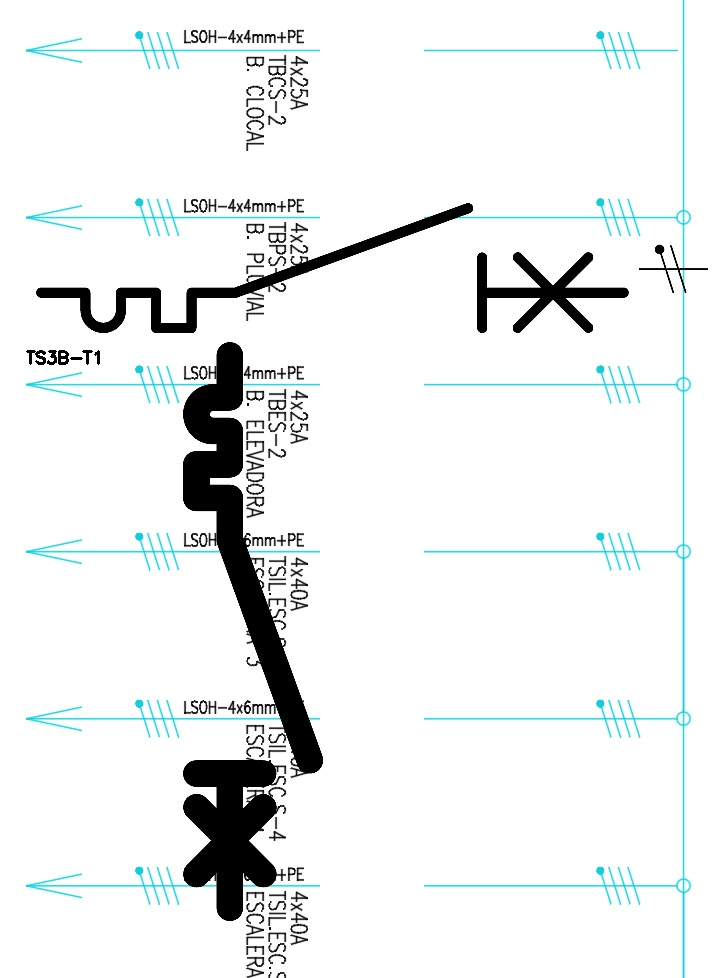interruptor_termomagnetico: (26, 193, 639, 343), (182, 341, 324, 922)
